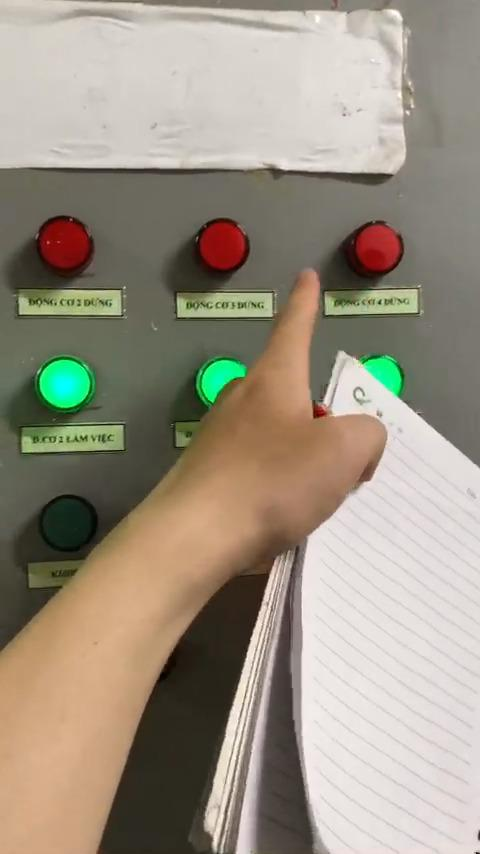led: (31, 208, 99, 276), (35, 494, 105, 559), (30, 351, 95, 414), (191, 355, 256, 415), (192, 215, 253, 274), (349, 221, 405, 276), (354, 354, 404, 404)
